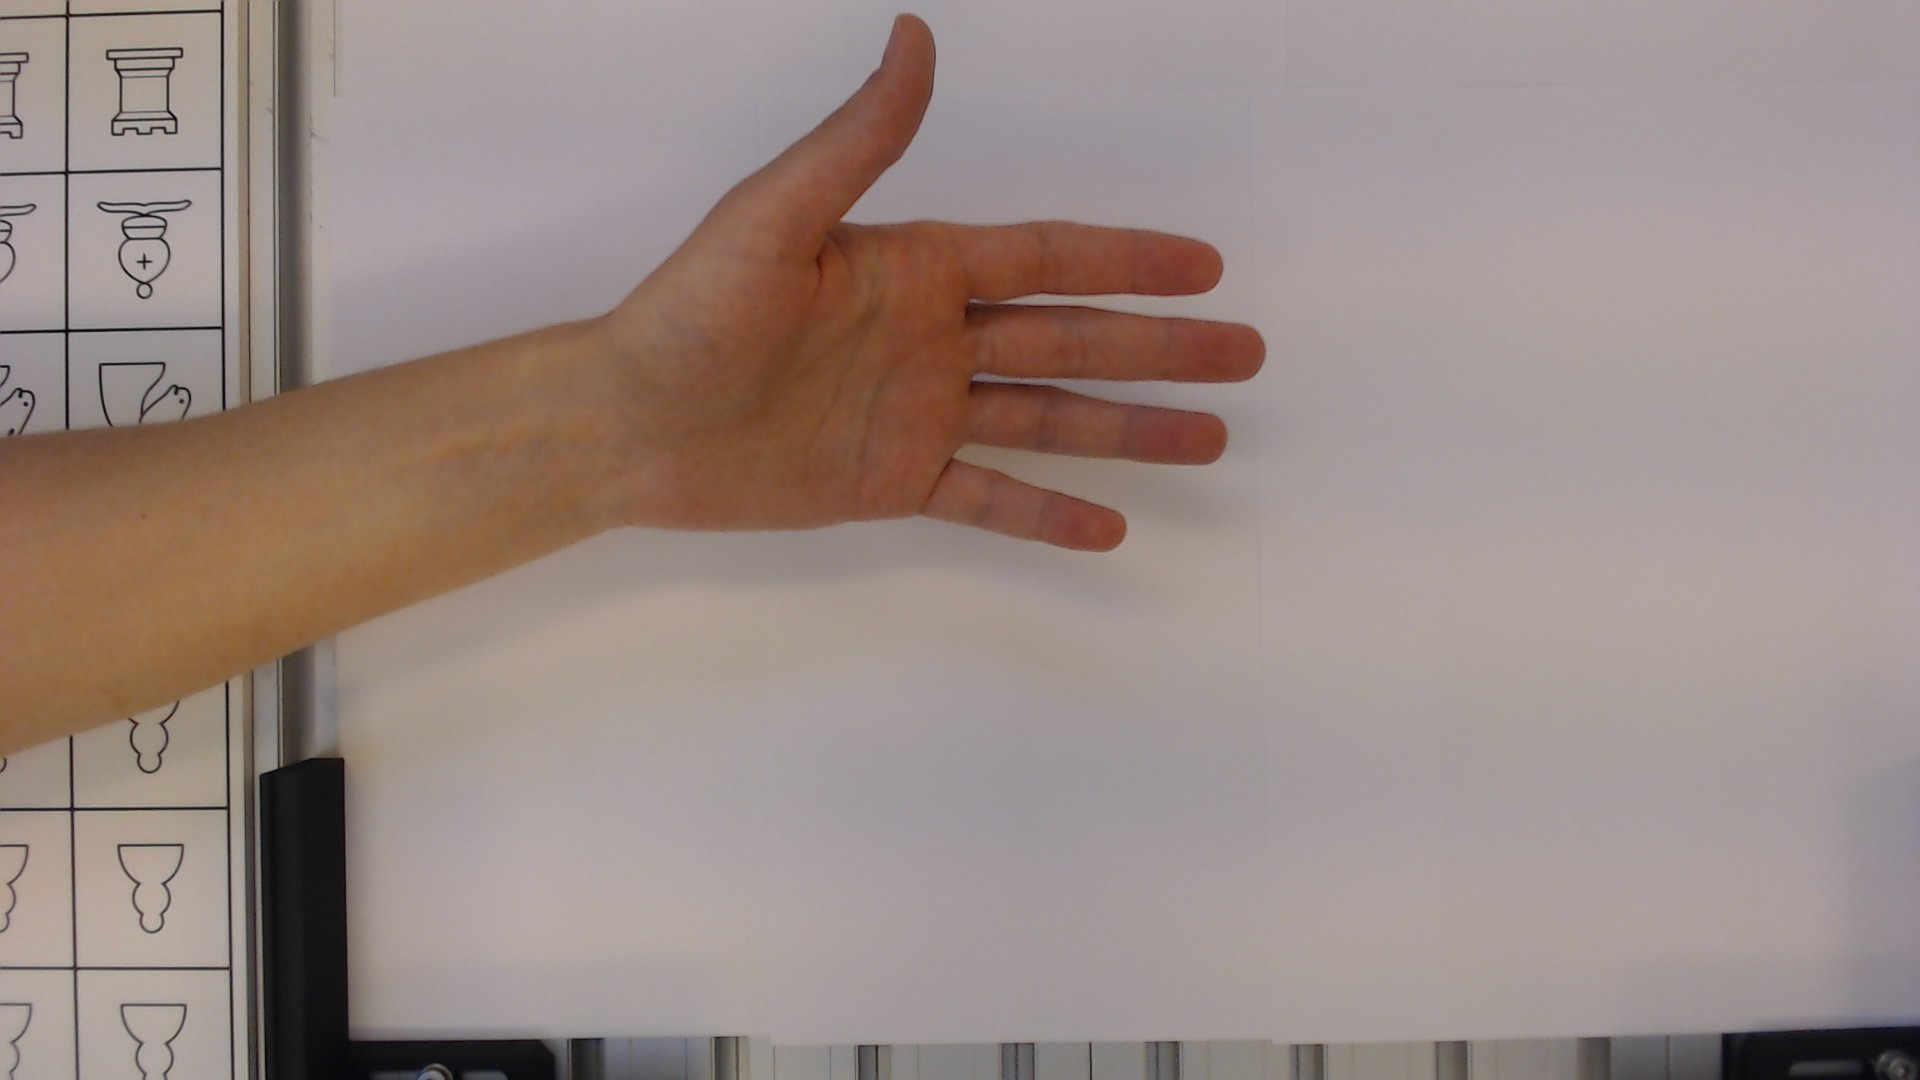Palm: (607, 157, 1021, 558)
